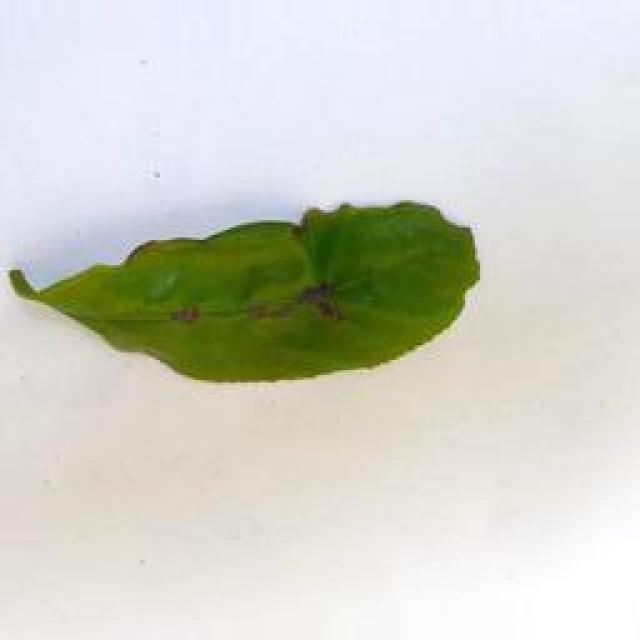Helopeltis: (24, 193, 503, 395)
